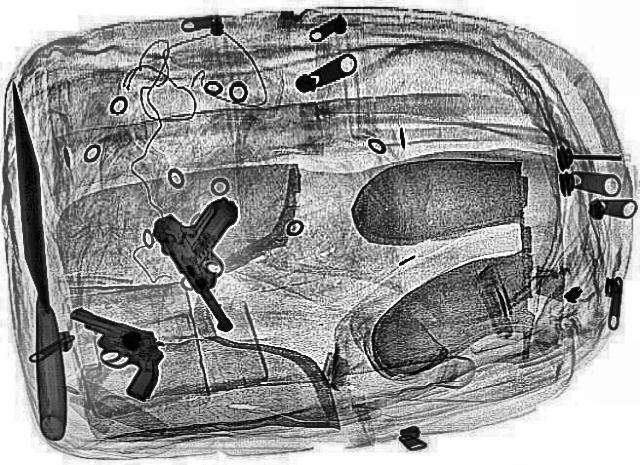Gun: (142, 194, 304, 334), (32, 306, 188, 400)
Knife: (4, 81, 68, 441)
